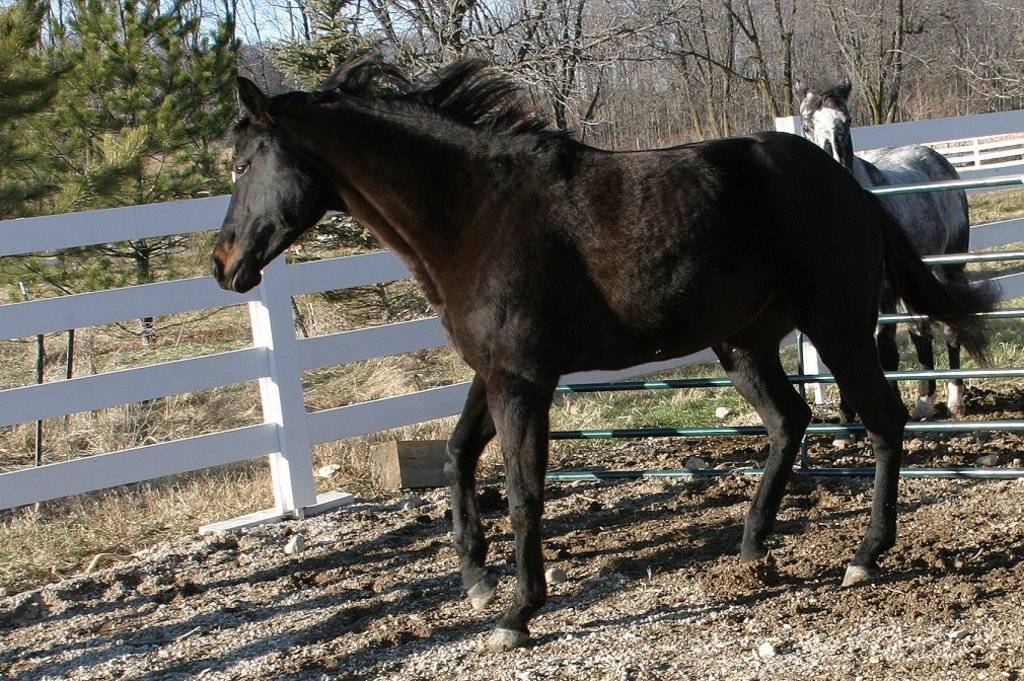horse: (205, 47, 1006, 653)
